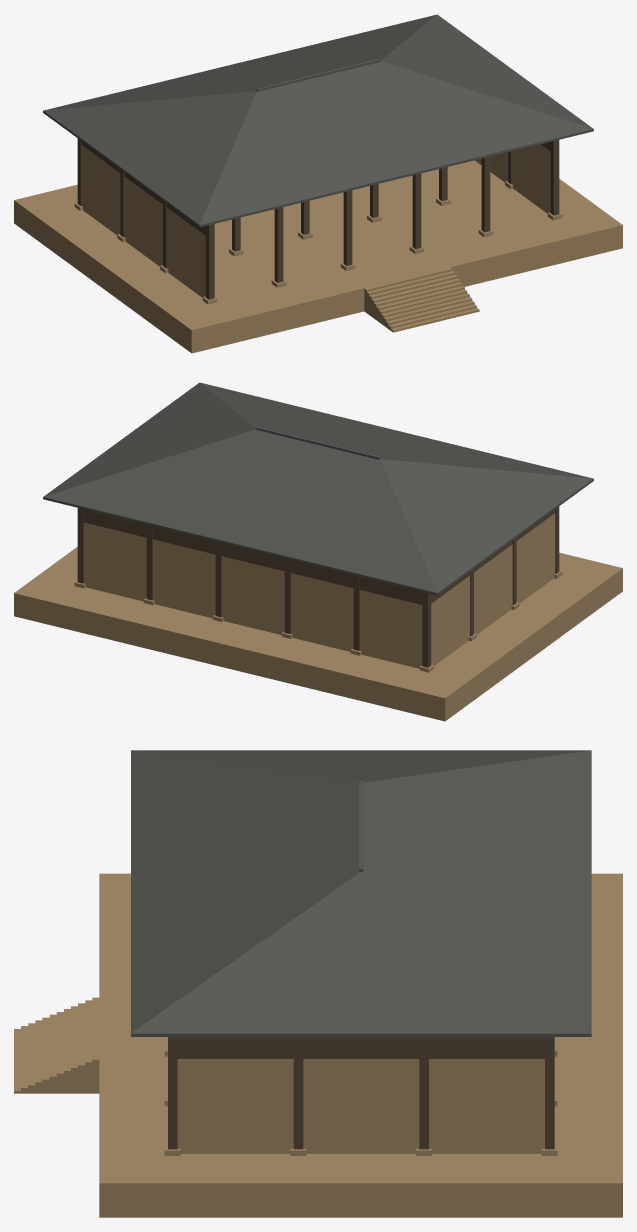
Rendered from deyang-A-LOD2.glb.
3 views of the same model, one above another, from view 1: azimuth 30°, elevation 25°; view 2: azimuth 150°, elevation 25°; view 3: azimuth 270°, elevation 25° (orthographic). The views are drawn at different scales.
Parts seen in each view (by area): view 1: deyang-A-static_earth, deyang-A-static_tile, deyang-A-static_timber; view 2: deyang-A-static_tile, deyang-A-static_earth, deyang-A-static_timber; view 3: deyang-A-static_tile, deyang-A-static_earth, deyang-A-static_timber.
Boxes of the visible parts, x1,y1,x2,y2 form: deyang-A-static_earth: (14, 144, 622, 353); deyang-A-static_tile: (43, 14, 593, 227); deyang-A-static_timber: (77, 138, 559, 299); deyang-A-static_tile: (43, 382, 593, 595); deyang-A-static_earth: (14, 513, 622, 721); deyang-A-static_timber: (77, 506, 559, 667); deyang-A-static_tile: (131, 750, 591, 1036); deyang-A-static_earth: (14, 873, 622, 1217); deyang-A-static_timber: (168, 1037, 554, 1149).
Bounding box in the file's own units: 35 × 12.54 × 29.08.
